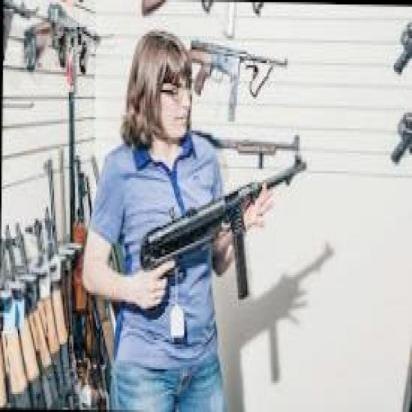Gun: (139, 144, 309, 301)
